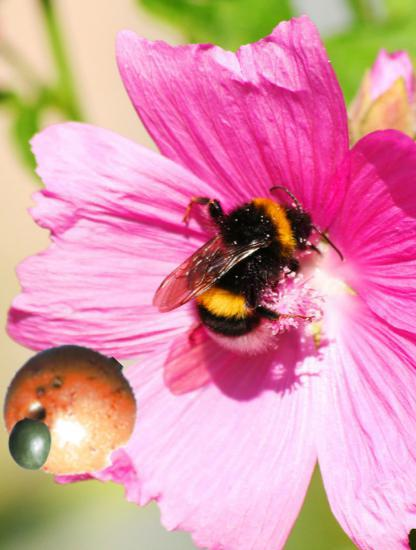Granadilla: (3, 343, 139, 479)
Mango: (3, 417, 57, 471)
